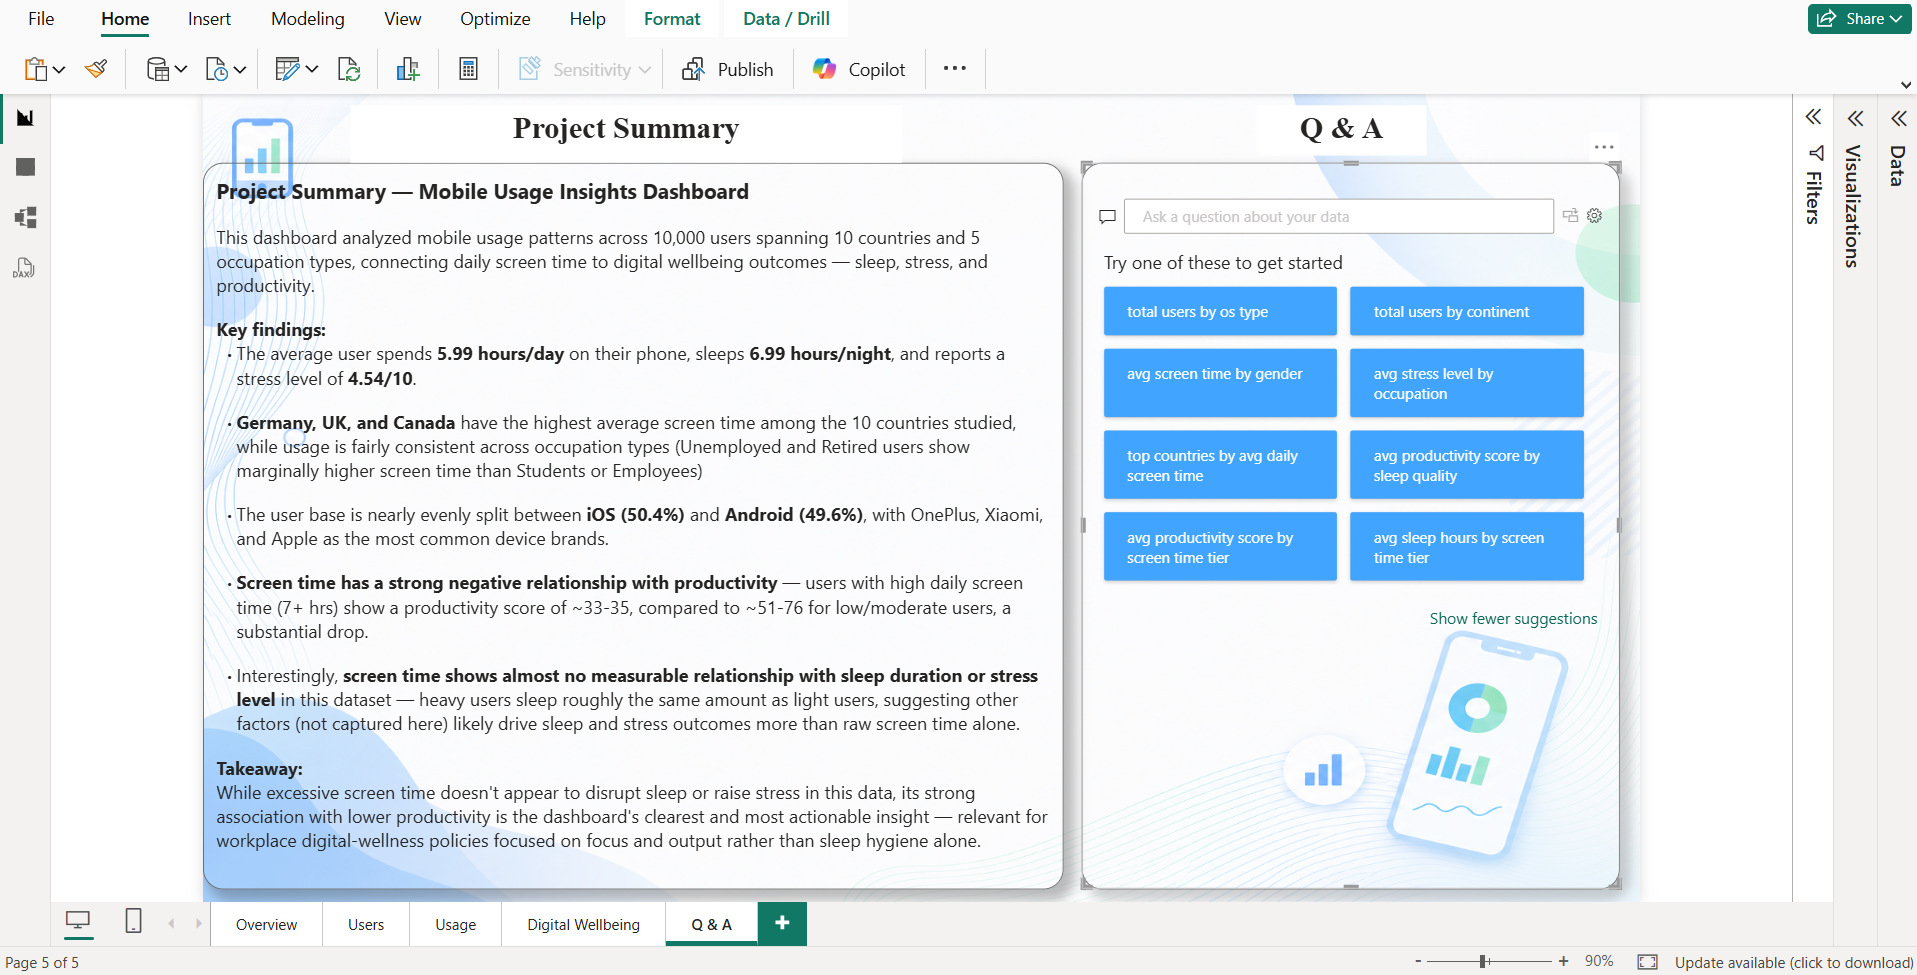

The page's visual inventory and layout, read from the dashboard file:
{"tool":"powerbi","page":{"name":"Q & A","canvas":[1280,720],"ordinal":4},"visuals":[{"type":"textbox","box":[0,61.1,766.7,646.9],"z":0},{"type":"textbox","box":[131.2,10,491.2,51.2],"z":1000},{"type":"textbox","box":[938.8,10,151.2,45],"z":2000},{"type":"qnaVisual","box":[782.6,61.1,479.4,646.9],"z":3000}]}

Visuals, with their boxes on the page's 1280x720 design canvas (x1, y1, x2, y2). These are canvas units, not pixel positions in the 1917x975 screenshot, which may show the page scaled, cropped or inside an application window:
textbox: bbox=[0, 61, 767, 708]
textbox: bbox=[131, 10, 622, 61]
textbox: bbox=[939, 10, 1090, 55]
qnaVisual: bbox=[783, 61, 1262, 708]
